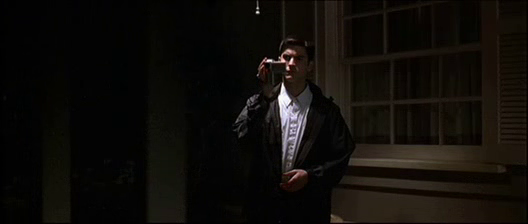face: (281, 47, 306, 82)
mls: (1, 1, 528, 224)
person: (232, 38, 356, 224)
